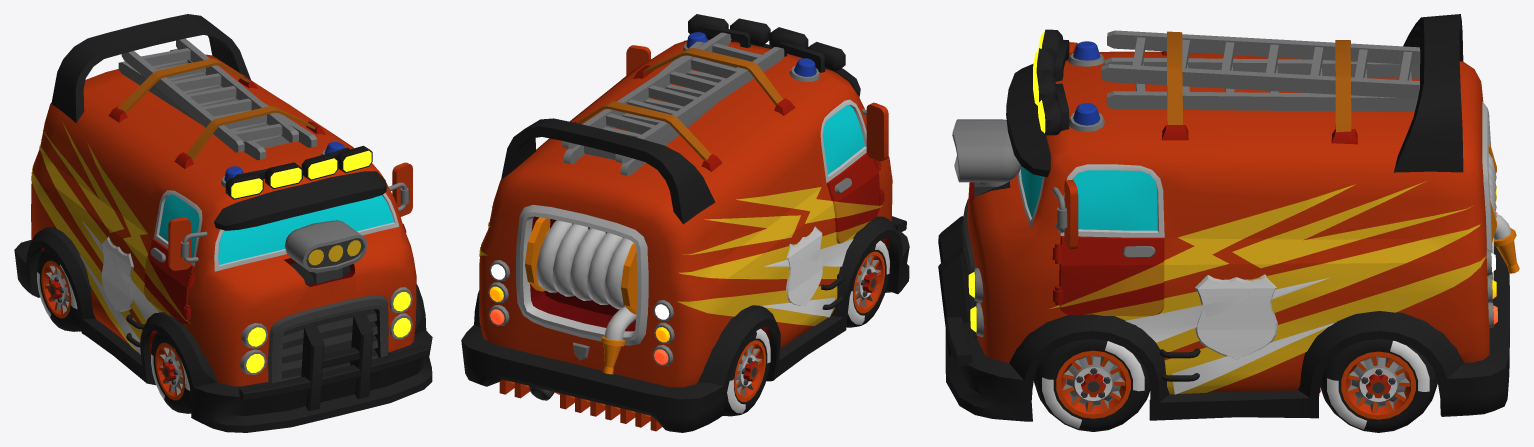
File: SVehicle14.fbx
3 views of the same model, side by side, from view 1: azimuth 30°, elevation 25°; view 2: azimuth 150°, elevation 25°; view 3: azimuth 270°, elevation 25° (orthographic). The views are drawn at different scales.
Visible parts, largest first — view 1: SVehicle14, SV13_Parts, SV14_Wheel_BR, SV14_Wheel_FR; view 2: SVehicle14, SV13_Parts, SV14_Wheel_BR, SV14_Wheel_FR; view 3: SVehicle14, SV13_Parts, SV14_Wheel_BL, SV14_Wheel_FL.
Part boxes in pixels (box(x1,y1,x2,y2)): SVehicle14: box(14, 14, 432, 432); SV13_Parts: box(118, 38, 317, 161); SV14_Wheel_BR: box(37, 249, 81, 331); SV14_Wheel_FR: box(151, 332, 191, 413); SVehicle14: box(461, 14, 909, 432); SV13_Parts: box(499, 32, 784, 431); SV14_Wheel_BR: box(723, 328, 770, 416); SV14_Wheel_FR: box(846, 240, 889, 327); SVehicle14: box(938, 14, 1509, 421); SV13_Parts: box(1101, 30, 1519, 273); SV14_Wheel_BL: box(1320, 339, 1437, 432); SV14_Wheel_FL: box(1034, 339, 1150, 431).
Size of the model in its own units: 266 by 268 by 435.
1 material, 1 textured.
